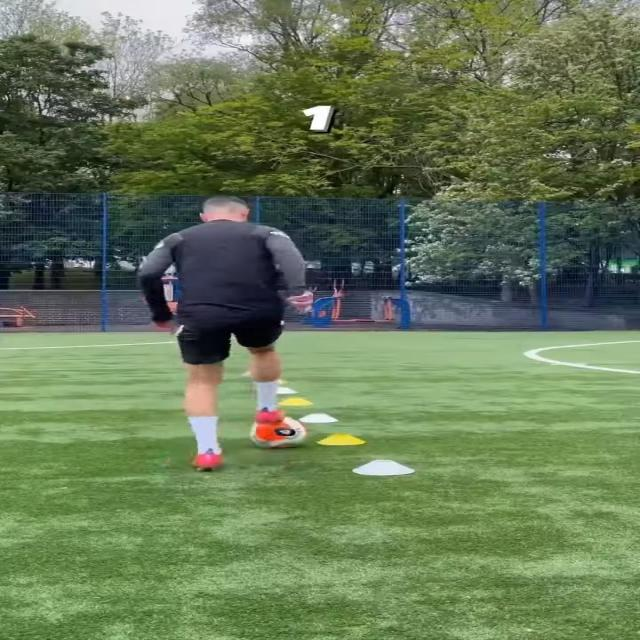Soccer Ball: (248, 416, 308, 450)
